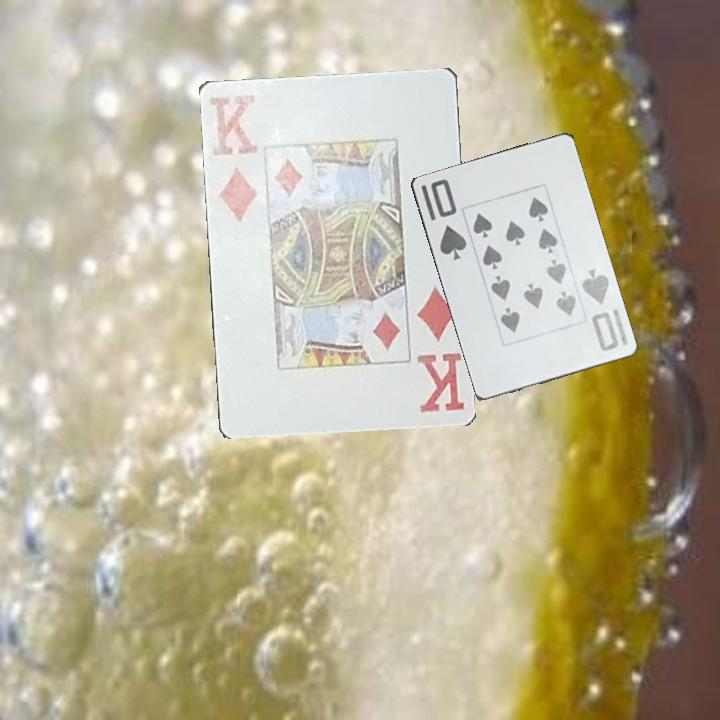Kd: (205, 88, 260, 224), (412, 282, 467, 415)
Ts: (418, 176, 470, 264), (578, 265, 622, 355)
